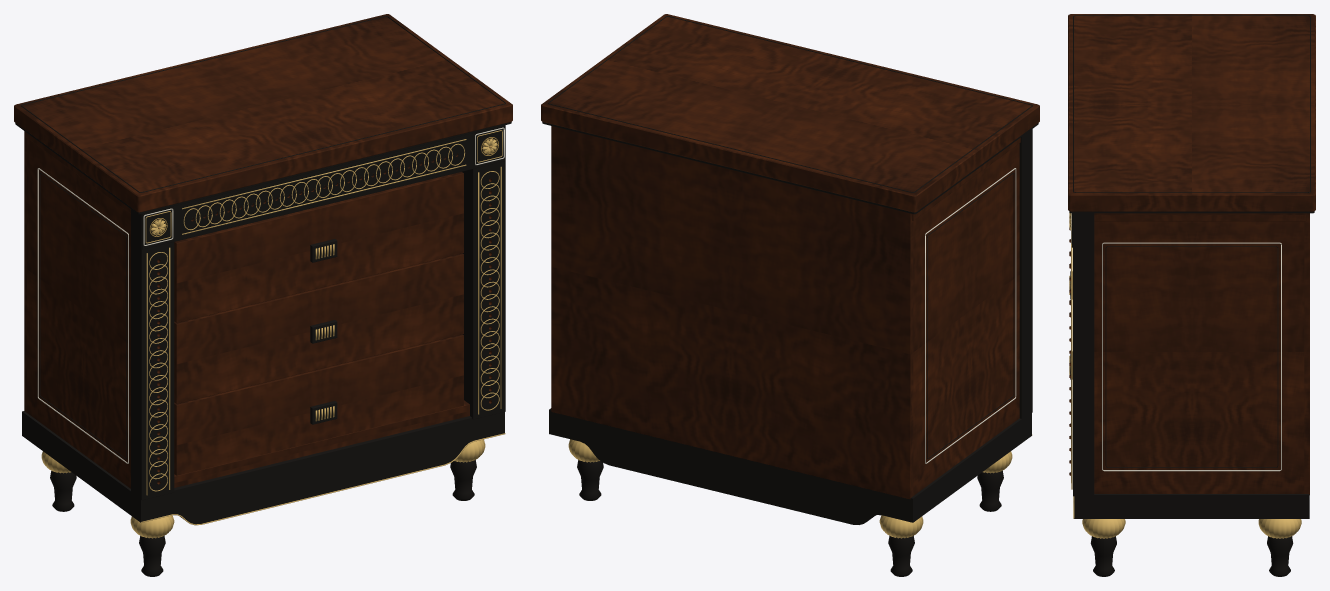
The picture shows the model from 3 angles, left to right: view 1: azimuth 30°, elevation 25°; view 2: azimuth 150°, elevation 25°; view 3: azimuth 270°, elevation 25°; orthographic projection.
Visible parts, largest first — view 1: Nantes three-drawer night table | bedroom-28 web batch; view 2: Nantes three-drawer night table | bedroom-28 web batch; view 3: Nantes three-drawer night table | bedroom-28 web batch.
Part boxes in pixels (x1=…): Nantes three-drawer night table | bedroom-28 web batch: x1=14, y1=14, x2=512, y2=576; Nantes three-drawer night table | bedroom-28 web batch: x1=541, y1=14, x2=1039, y2=576; Nantes three-drawer night table | bedroom-28 web batch: x1=1068, y1=14, x2=1315, y2=576.
Size of the model in its own units: 0.78 by 0.7911 by 0.45.
Materials: 7 (2 with a texture image).
